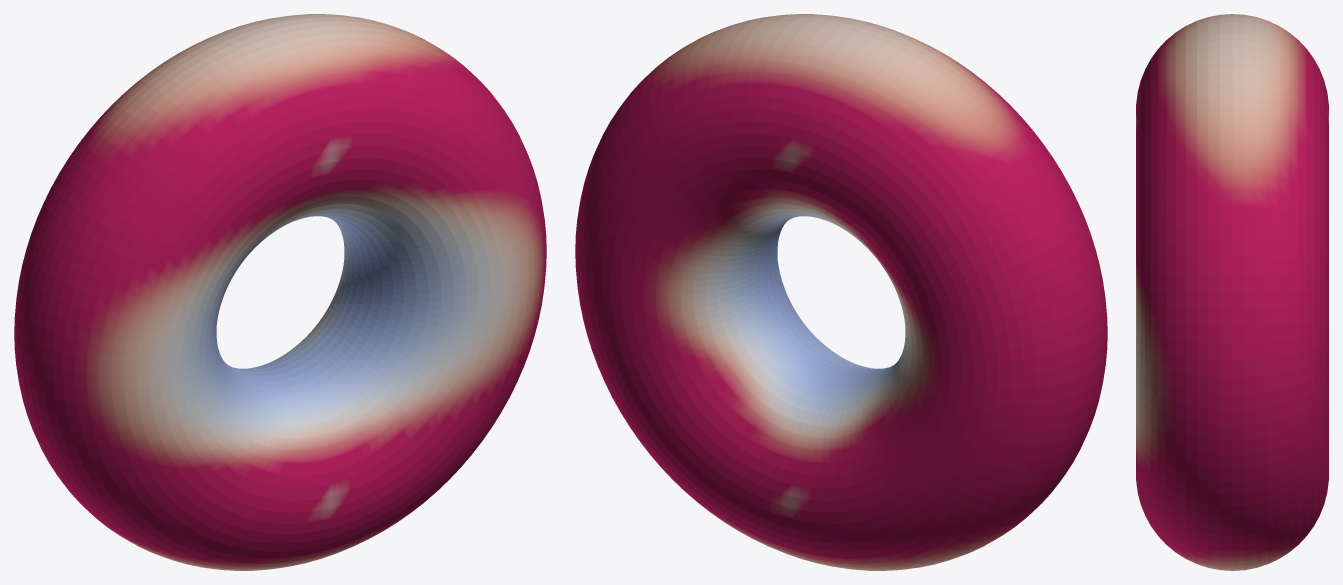
3 renders of one model, left to right at view 1: azimuth 30°, elevation 25°; view 2: azimuth 150°, elevation 25°; view 3: azimuth 270°, elevation 25°, orthographic. The views are drawn at different scales.
Visible parts, largest first — view 1: world; view 2: world; view 3: world.
Boxes of the visible parts, x1,y1,x2,y2 form: world: (14, 14, 546, 570); world: (575, 14, 1107, 570); world: (1136, 14, 1328, 570).
Bounding box in the file's own units: 26.53 × 26.53 × 9.18.
